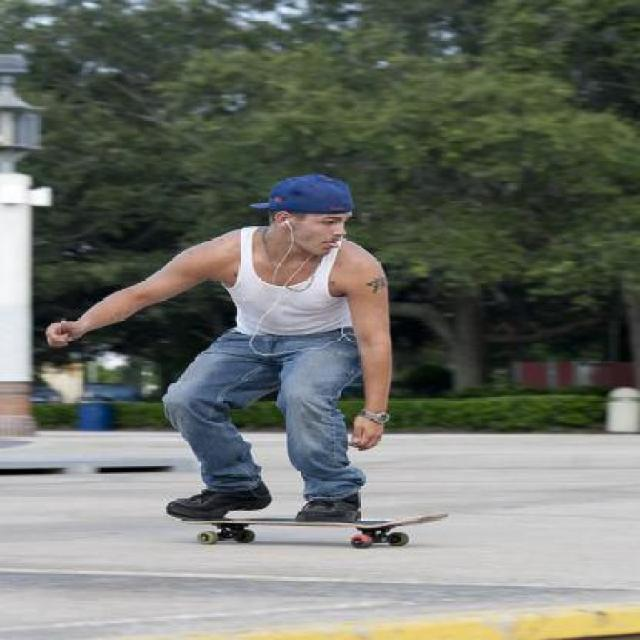Person: (34, 175, 415, 532)
